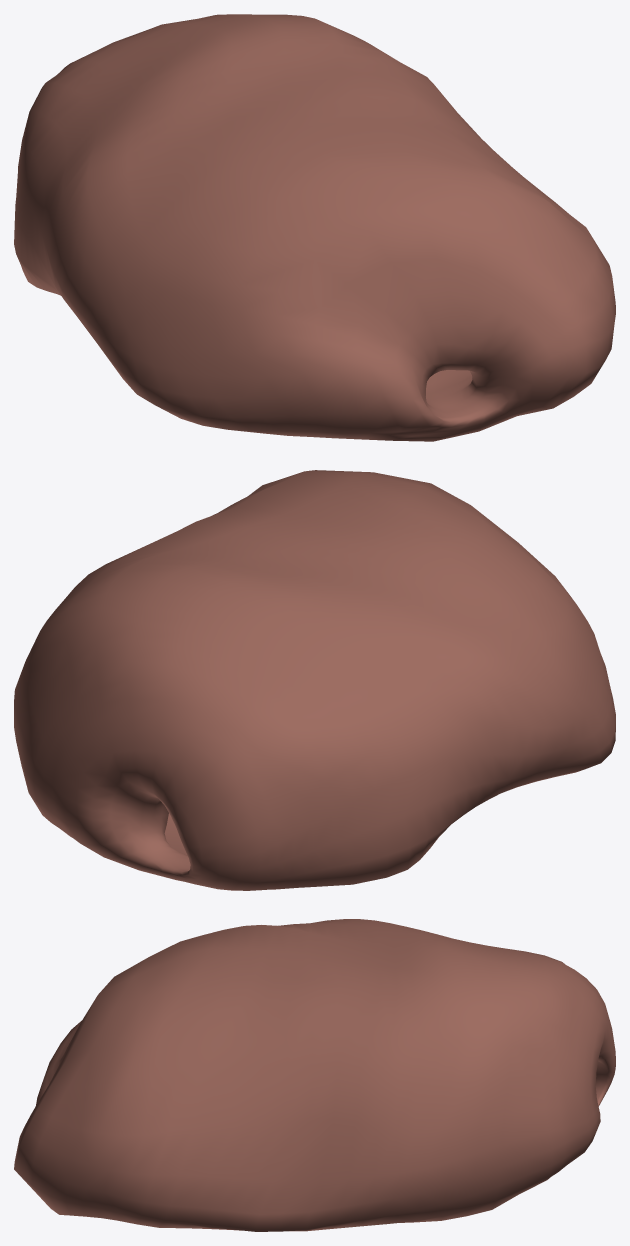
File: Cva2.fbx
The picture shows the model from 3 angles, top to bottom: view 1: azimuth 30°, elevation 25°; view 2: azimuth 150°, elevation 25°; view 3: azimuth 270°, elevation 25°; orthographic projection. The views are drawn at different scales.
Visible parts, largest first — view 1: Montaña.002; view 2: Montaña.002; view 3: Montaña.002.
Boxes of the visible parts, x1=… form: Montaña.002: x1=14, y1=14, x2=615, y2=441; Montaña.002: x1=14, y1=470, x2=615, y2=890; Montaña.002: x1=14, y1=919, x2=615, y2=1231.
Size of the model in its own units: 71749 by 38418 by 93806.
